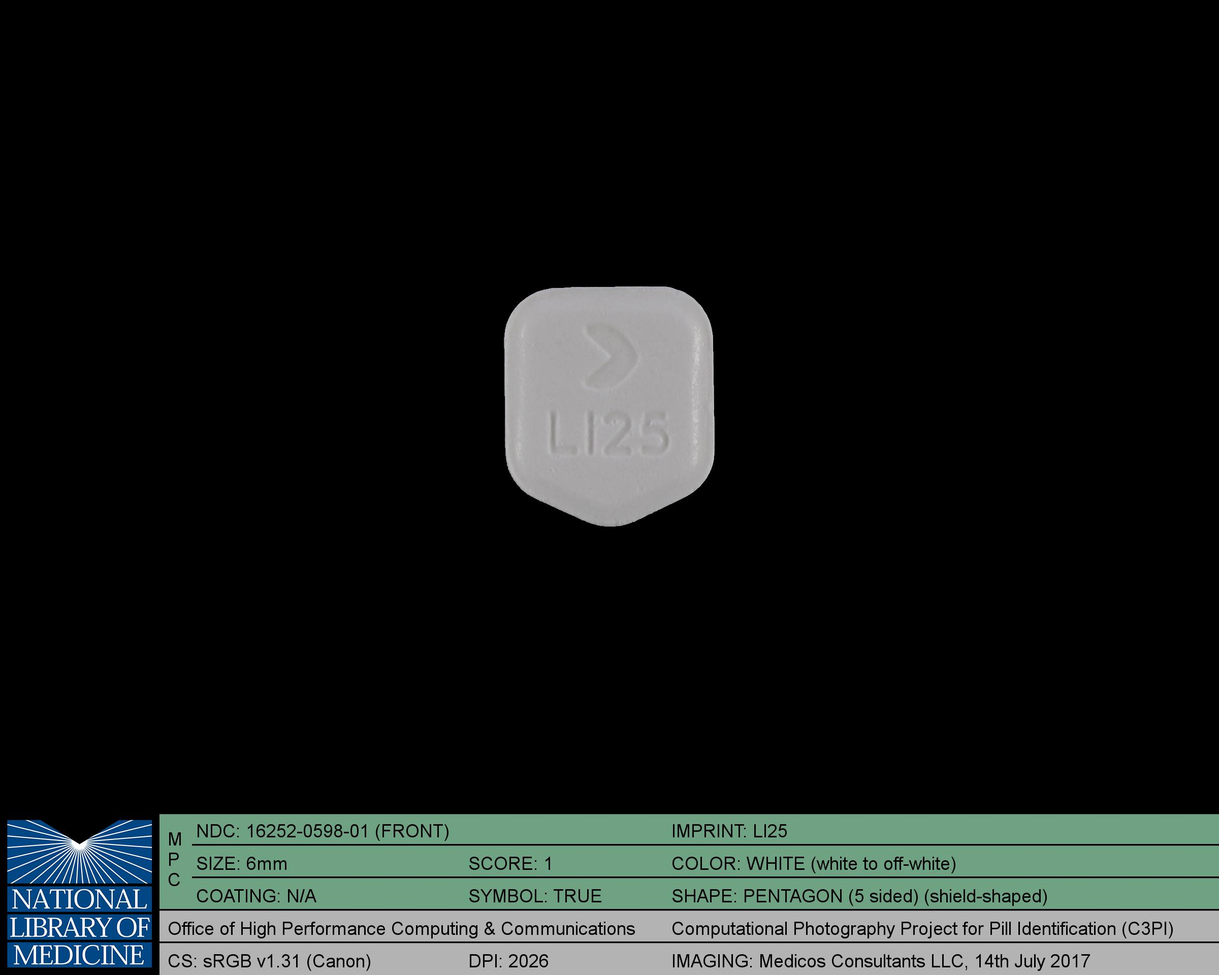Pill: (494, 274, 726, 535)
